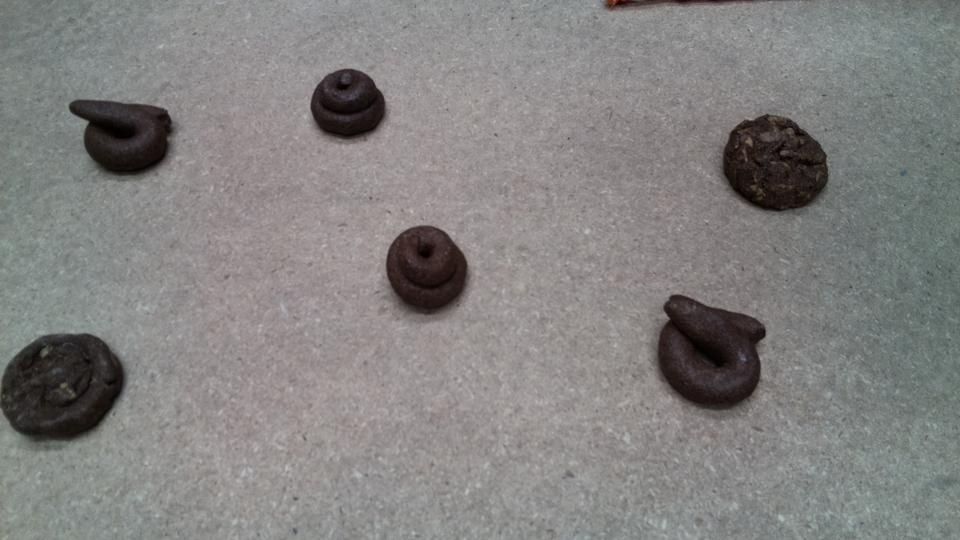poop: (1, 324, 129, 445), (653, 291, 772, 416), (719, 111, 833, 216), (65, 96, 176, 179), (383, 222, 472, 316), (308, 65, 389, 143)
